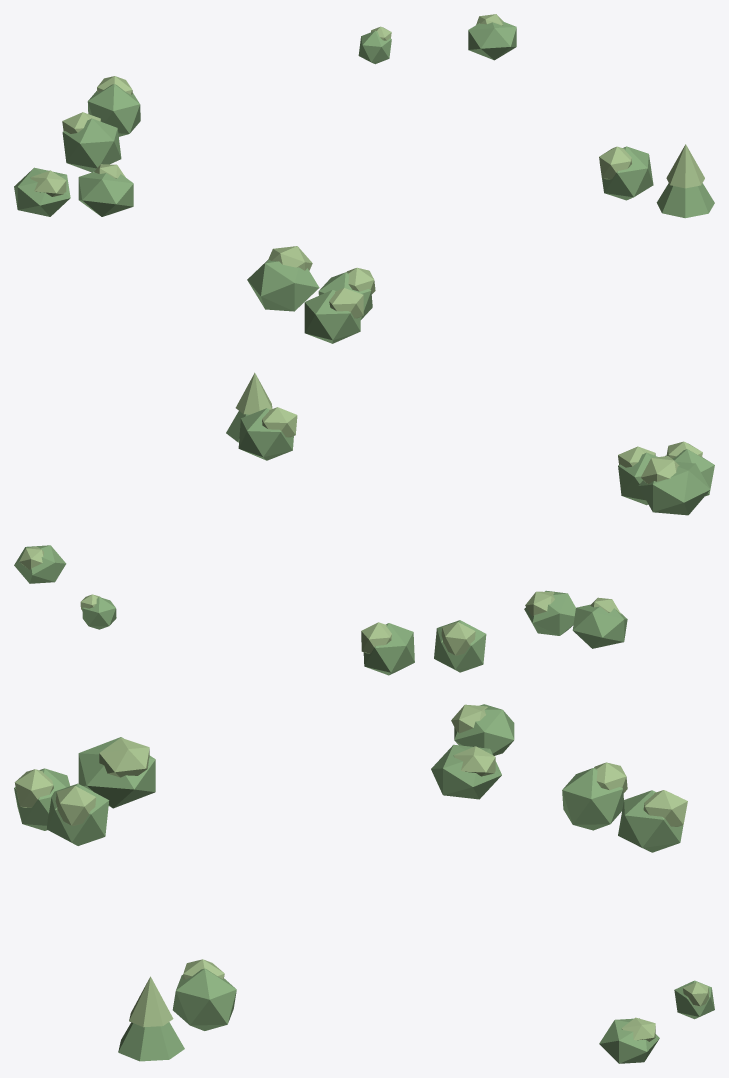
Rendered from path_crossroads_copse_wind_canopies.fbx.
The picture shows the model from 3 angles, top to bottom: view 1: azimuth 30°, elevation 25°; view 2: azimuth 150°, elevation 25°; view 3: azimuth 270°, elevation 25°; orthographic projection. The views are drawn at different scales.
Visible parts, largest first — view 1: chunk_path_crossroads_copse__tree_canopy_05, chunk_path_crossroads_copse__tree_canopy_08, chunk_path_crossroads_copse__tree_canopy_03, chunk_path_crossroads_copse__tree_canopy_09, chunk_path_crossroads_copse__tree_canopy_13, chunk_path_crossroads_copse__tree_canopy_18, chunk_path_crossroads_copse__tree_canopy_19, chunk_path_crossroads_copse__tree_canopy_01, chunk_path_crossroads_copse__landmark_surround_tree_1_tree_c, chunk_path_crossroads_copse__tree_canopy_20, chunk_path_crossroads_copse__landmark_surround_tree_2_tree_c, chunk_path_crossroads_copse__tree_canopy_10 (+5 smaller); view 2: chunk_path_crossroads_copse__tree_canopy_05, chunk_path_crossroads_copse__tree_canopy_01, chunk_path_crossroads_copse__tree_canopy_18, chunk_path_crossroads_copse__tree_canopy_13, chunk_path_crossroads_copse__tree_canopy_03, chunk_path_crossroads_copse__tree_canopy_08, chunk_path_crossroads_copse__landmark_surround_tree_1_tree_c, chunk_path_crossroads_copse__tree_canopy_11, chunk_path_crossroads_copse__tree_canopy_20, chunk_path_crossroads_copse__tree_canopy_07, chunk_path_crossroads_copse__landmark_surround_tree_2_tree_c, chunk_path_crossroads_copse__tree_canopy_16 (+4 smaller); view 3: chunk_path_crossroads_copse__tree_canopy_18, chunk_path_crossroads_copse__tree_canopy_05, chunk_path_crossroads_copse__tree_canopy_08, chunk_path_crossroads_copse__tree_canopy_13, chunk_path_crossroads_copse__tree_canopy_03, chunk_path_crossroads_copse__tree_canopy_19, chunk_path_crossroads_copse__tree_canopy_11, chunk_path_crossroads_copse__tree_canopy_01, chunk_path_crossroads_copse__landmark_surround_tree_1_tree_c, chunk_path_crossroads_copse__tree_canopy_06, chunk_path_crossroads_copse__tree_canopy_20, chunk_path_crossroads_copse__tree_canopy_09 (+7 smaller).
Part boxes in pixels (x1,y1,x2,y2): chunk_path_crossroads_copse__tree_canopy_05: [247, 259, 319, 311]; chunk_path_crossroads_copse__tree_canopy_08: [62, 118, 121, 172]; chunk_path_crossroads_copse__tree_canopy_03: [78, 171, 133, 216]; chunk_path_crossroads_copse__tree_canopy_09: [304, 289, 360, 343]; chunk_path_crossroads_copse__tree_canopy_13: [87, 84, 140, 136]; chunk_path_crossroads_copse__tree_canopy_18: [599, 146, 653, 200]; chunk_path_crossroads_copse__tree_canopy_19: [656, 183, 714, 218]; chunk_path_crossroads_copse__tree_canopy_01: [14, 167, 70, 216]; chunk_path_crossroads_copse__landmark_surround_tree_1_tree_c: [468, 21, 516, 60]; chunk_path_crossroads_copse__tree_canopy_20: [666, 144, 704, 188]; chunk_path_crossroads_copse__landmark_surround_tree_2_tree_c: [358, 30, 391, 64]; chunk_path_crossroads_copse__tree_canopy_10: [329, 288, 363, 318]; chunk_path_crossroads_copse__tree_canopy_05: [638, 461, 710, 515]; chunk_path_crossroads_copse__tree_canopy_01: [572, 604, 627, 648]; chunk_path_crossroads_copse__tree_canopy_18: [238, 408, 293, 460]; chunk_path_crossroads_copse__tree_canopy_13: [363, 623, 414, 675]; chunk_path_crossroads_copse__tree_canopy_03: [524, 590, 575, 635]; chunk_path_crossroads_copse__tree_canopy_08: [434, 620, 486, 672]; chunk_path_crossroads_copse__landmark_surround_tree_1_tree_c: [14, 545, 66, 583]; chunk_path_crossroads_copse__tree_canopy_11: [618, 452, 657, 505]; chunk_path_crossroads_copse__tree_canopy_20: [235, 372, 272, 414]; chunk_path_crossroads_copse__tree_canopy_07: [441, 622, 475, 655]; chunk_path_crossroads_copse__landmark_surround_tree_2_tree_c: [82, 597, 116, 629]; chunk_path_crossroads_copse__tree_canopy_16: [262, 407, 297, 437]; chunk_path_crossroads_copse__tree_canopy_18: [172, 968, 236, 1030]; chunk_path_crossroads_copse__tree_canopy_05: [78, 737, 155, 808]; chunk_path_crossroads_copse__tree_canopy_08: [562, 768, 623, 830]; chunk_path_crossroads_copse__tree_canopy_13: [618, 790, 683, 852]; chunk_path_crossroads_copse__tree_canopy_03: [431, 744, 501, 799]; chunk_path_crossroads_copse__tree_canopy_19: [118, 1022, 184, 1061]; chunk_path_crossroads_copse__tree_canopy_11: [46, 783, 109, 845]; chunk_path_crossroads_copse__tree_canopy_01: [454, 704, 514, 755]; chunk_path_crossroads_copse__landmark_surround_tree_1_tree_c: [599, 1018, 659, 1063]; chunk_path_crossroads_copse__tree_canopy_06: [99, 737, 149, 777]; chunk_path_crossroads_copse__tree_canopy_20: [129, 976, 173, 1027]; chunk_path_crossroads_copse__tree_canopy_09: [14, 768, 69, 830].
Size of the model in its own units: 194 by 25.3 by 182.
